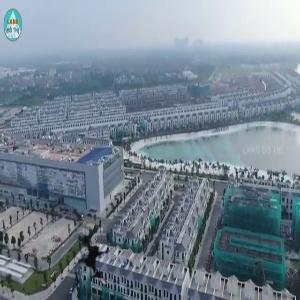drone: (68, 219, 136, 287)
